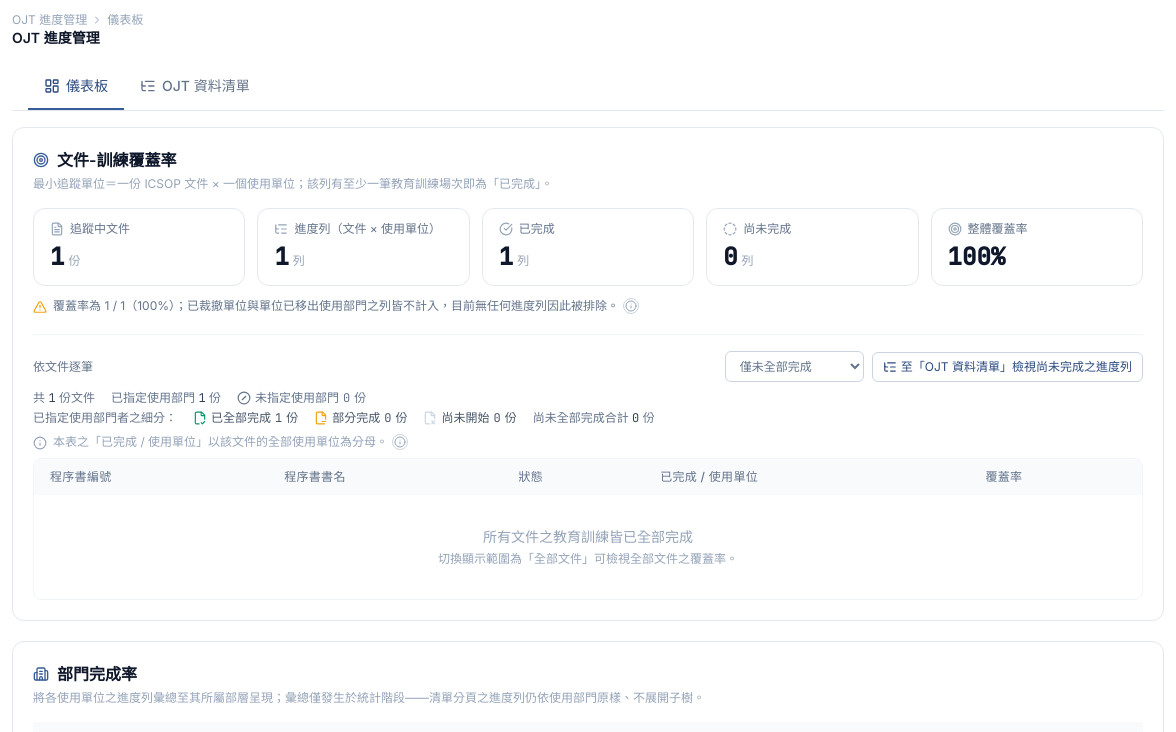
Test: ③ 版次：列標籤、需重訓註記、場次明細之版次分組 › 有場次但無當下版次場次 → 出現需重訓註記，且徽章仍為 pending
Click the tab "OJT 資料清單".
click(195, 87)  # box [124, 64, 266, 110]
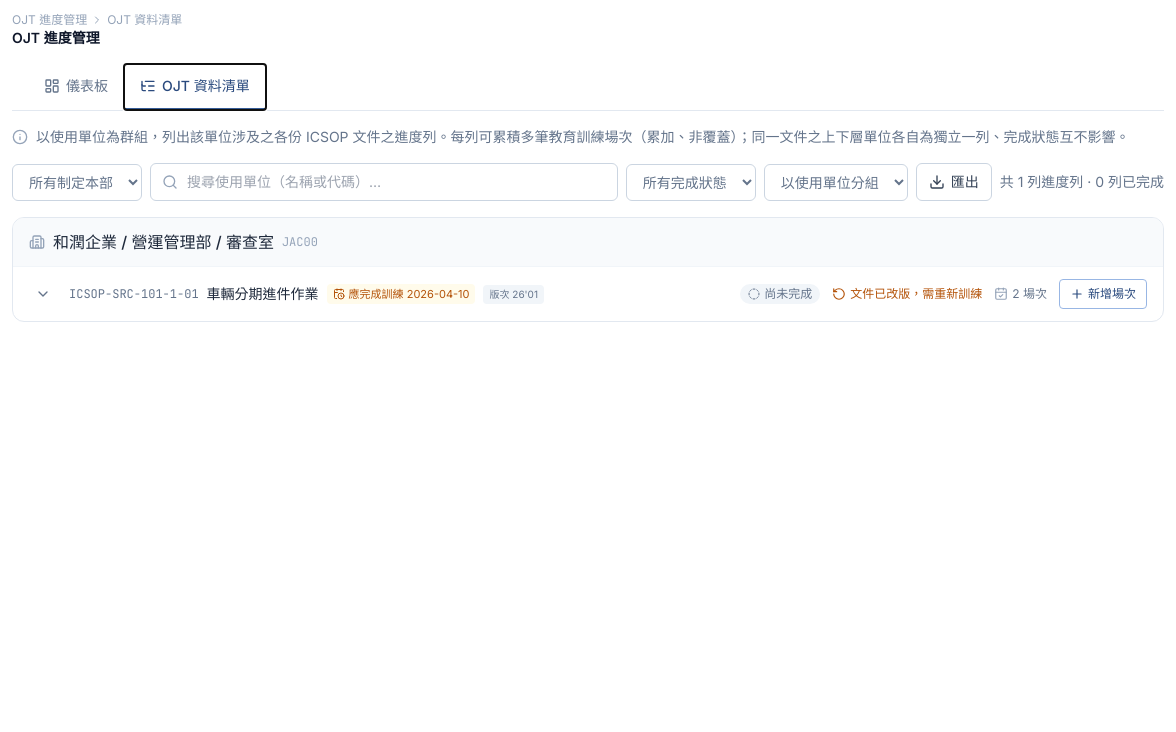
Expected: the element showing "文件已改版，需重新訓練" is shown, [832, 286, 982, 302]
Now the element that starts with "ICSOP-SRC-101-1-01" is shown, box [29, 279, 1147, 309]
